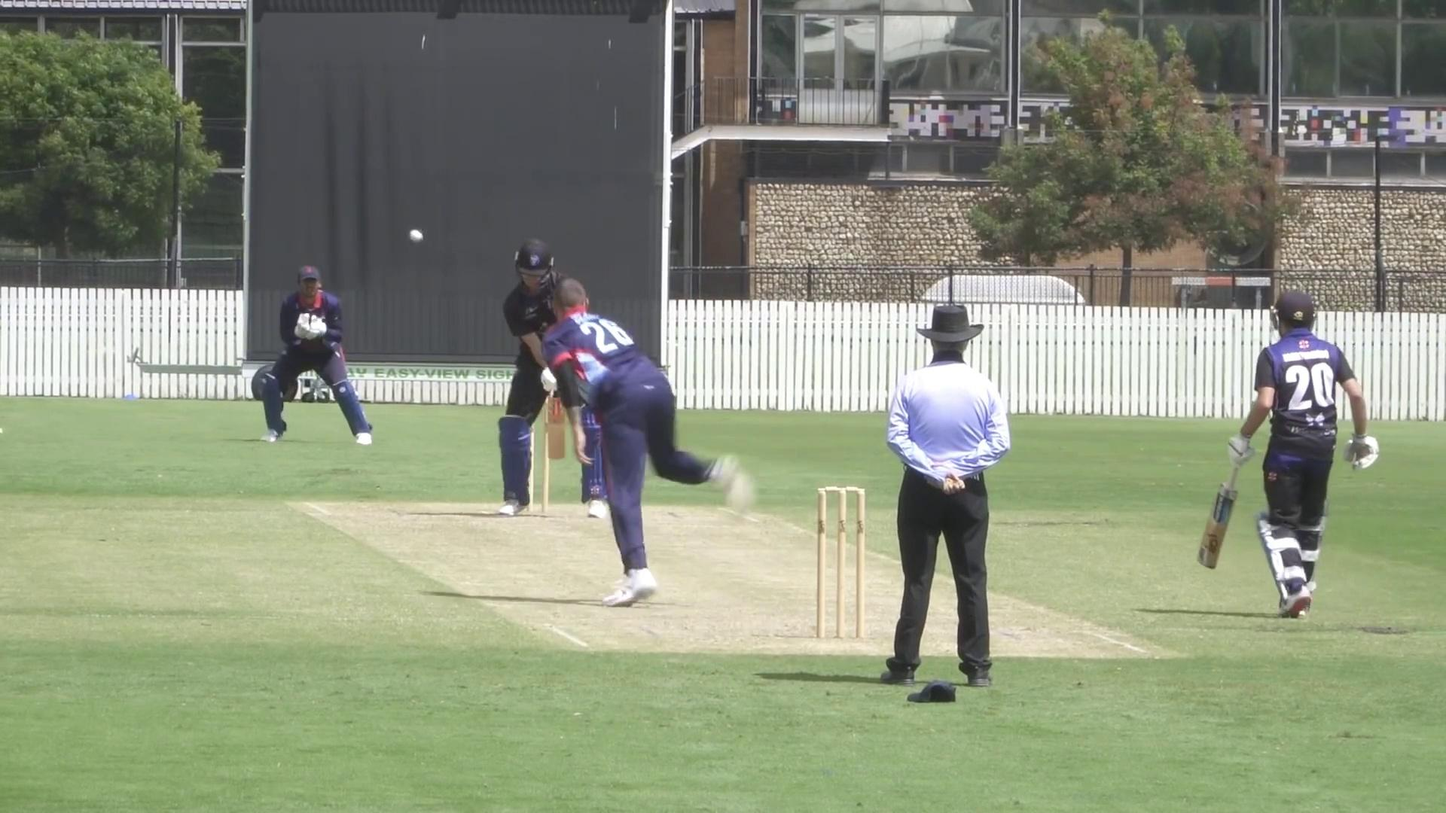ball: (404, 225, 428, 246)
